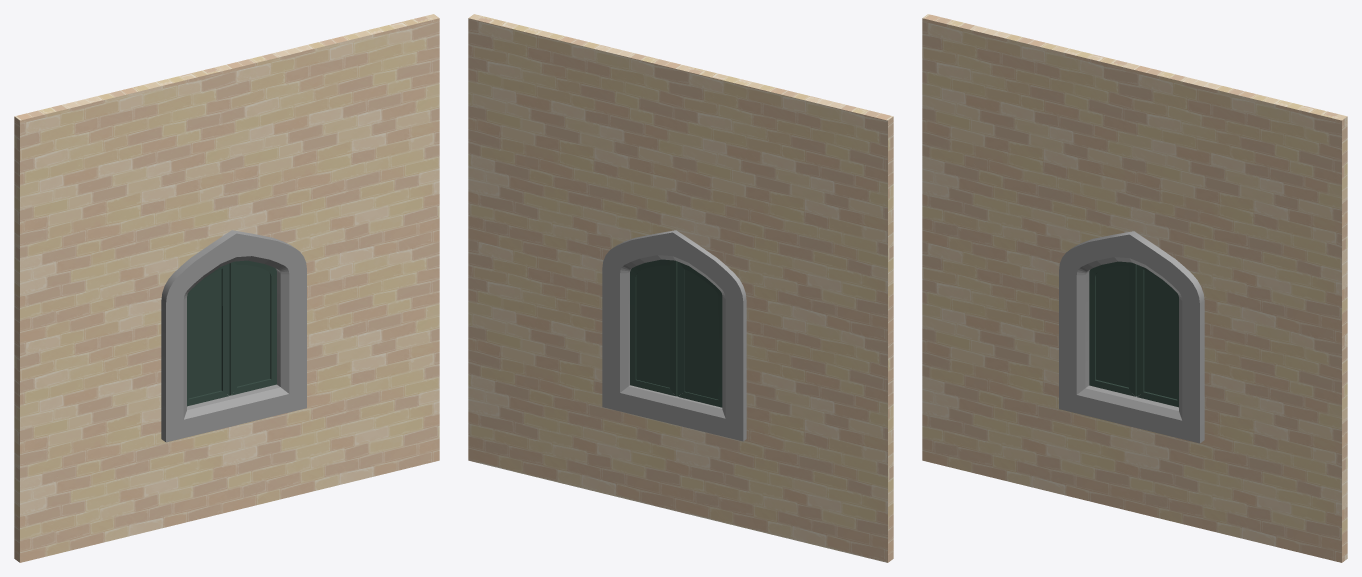
File: SM_wall_window_02.fbx
The picture shows the model from 3 angles, left to right: view 1: azimuth 30°, elevation 25°; view 2: azimuth 150°, elevation 25°; view 3: azimuth 330°, elevation 25°; orthographic projection.
Parts seen in each view (by area): view 1: Plane217; view 2: Plane217; view 3: Plane217.
Boxes of the visible parts, x1,y1,x2,y2 form: Plane217: [14, 14, 439, 562]; Plane217: [468, 14, 893, 562]; Plane217: [922, 14, 1347, 562].
Bounding box in the file's own units: 169 × 171 × 9.51.
